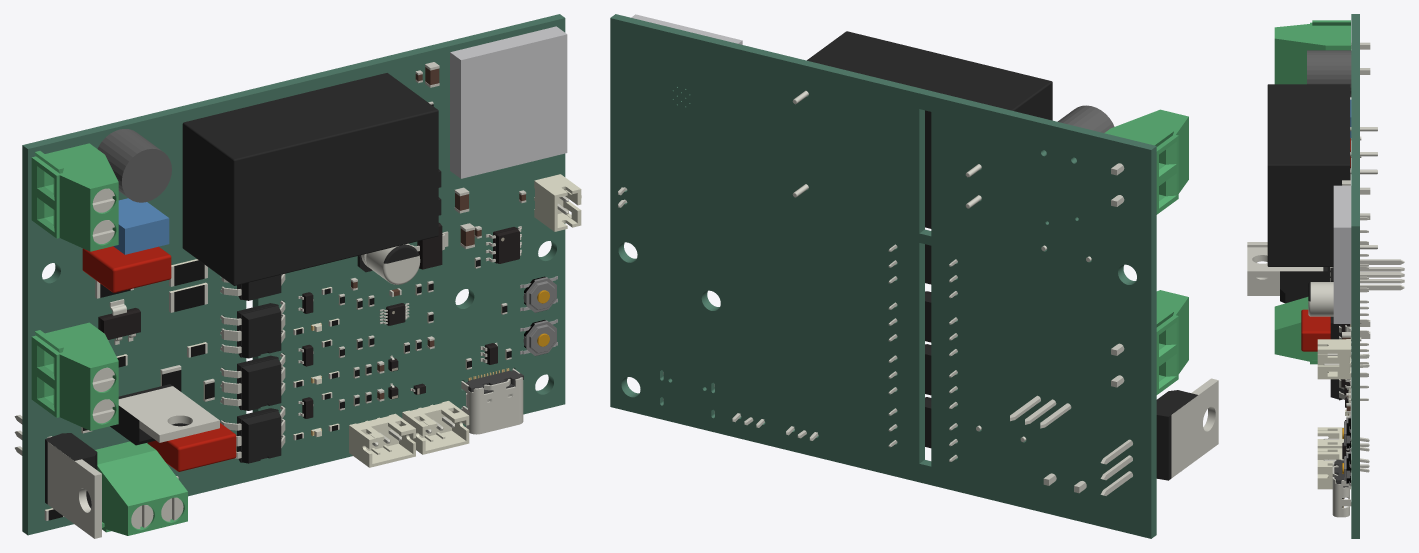
The model's file is board.glb.
3 views of the same model, side by side, from view 1: azimuth 30°, elevation 25°; view 2: azimuth 150°, elevation 25°; view 3: azimuth 270°, elevation 25° (orthographic). The views are drawn at different scales.
Visible parts, largest first — view 1: =>[0:1:1:48], =>[0:1:1:31]_3898e0, U8, =>[0:1:1:43]_d3dcd8, =>[0:1:1:43]_1_4a9ed9, =>[0:1:1:43]_2_55c0dc, =>[0:1:1:35]_1_55e4dd, F1, =>[0:1:1:35]_4e5246, =>[0:1:1:23]_49e0a5, =>[0:1:1:11]_cef151, =>[0:1:1:3]_b5a5bb (+21 smaller); view 2: =>[0:1:1:48], =>[0:1:1:31]_3898e0, =>[0:1:1:35]_1_55e4dd, =>[0:1:1:43]_1_4a9ed9, =>[0:1:1:43]_d3dcd8, =>[0:1:1:35]_1_9f8e3d, F1, =>[0:1:1:35]_4e5246; view 3: =>[0:1:1:31]_3898e0, =>[0:1:1:48], =>[0:1:1:43]_1_4a9ed9, U8, =>[0:1:1:43]_2_55c0dc, =>[0:1:1:35]_4e5246, F1, =>[0:1:1:39]_fd2b68, =>[0:1:1:35]_1_55e4dd, =>[0:1:1:23]_1, =>[0:1:1:35]_69d7f5, =>[0:1:1:47]_bf1f76 (+8 smaller).
Part boxes in pixels (x1,y1,x2,y2): =>[0:1:1:48]: (22, 14, 565, 535); =>[0:1:1:31]_3898e0: (182, 73, 438, 285); U8: (450, 26, 567, 178); =>[0:1:1:43]_d3dcd8: (31, 322, 118, 430); =>[0:1:1:43]_1_4a9ed9: (31, 143, 118, 251); =>[0:1:1:43]_2_55c0dc: (95, 441, 187, 535); =>[0:1:1:35]_1_55e4dd: (14, 415, 101, 538); F1: (97, 129, 171, 202); =>[0:1:1:35]_4e5246: (118, 386, 219, 442); =>[0:1:1:23]_49e0a5: (82, 246, 171, 292); =>[0:1:1:11]_cef151: (349, 413, 415, 467); =>[0:1:1:3]_b5a5bb: (461, 368, 523, 434); =>[0:1:1:48]: (610, 14, 1156, 538); =>[0:1:1:31]_3898e0: (807, 31, 1052, 228); =>[0:1:1:35]_1_55e4dd: (1100, 378, 1218, 495); =>[0:1:1:43]_1_4a9ed9: (1104, 109, 1188, 214); =>[0:1:1:43]_d3dcd8: (1156, 290, 1188, 394); =>[0:1:1:35]_1_9f8e3d: (1156, 390, 1197, 480); F1: (1057, 105, 1114, 132); =>[0:1:1:35]_4e5246: (1010, 395, 1071, 428); =>[0:1:1:31]_3898e0: (1267, 84, 1350, 266); =>[0:1:1:48]: (1351, 14, 1359, 538); =>[0:1:1:43]_1_4a9ed9: (1274, 20, 1350, 84); U8: (1333, 185, 1351, 323); =>[0:1:1:43]_2_55c0dc: (1274, 297, 1317, 364); =>[0:1:1:35]_4e5246: (1247, 247, 1404, 283); F1: (1307, 50, 1351, 97); =>[0:1:1:39]_fd2b68: (1317, 339, 1350, 379); =>[0:1:1:35]_1_55e4dd: (1247, 242, 1404, 295); =>[0:1:1:23]_1: (1301, 309, 1330, 351); =>[0:1:1:35]_69d7f5: (1280, 267, 1330, 293); =>[0:1:1:47]_bf1f76: (1308, 282, 1333, 316).
Bounding box in the file's own units: 91 × 62.5 × 28.52.
